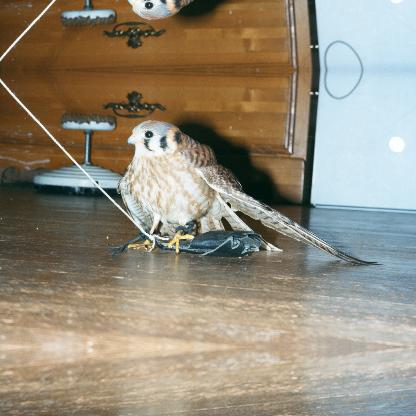Bird: (120, 122, 368, 262)
